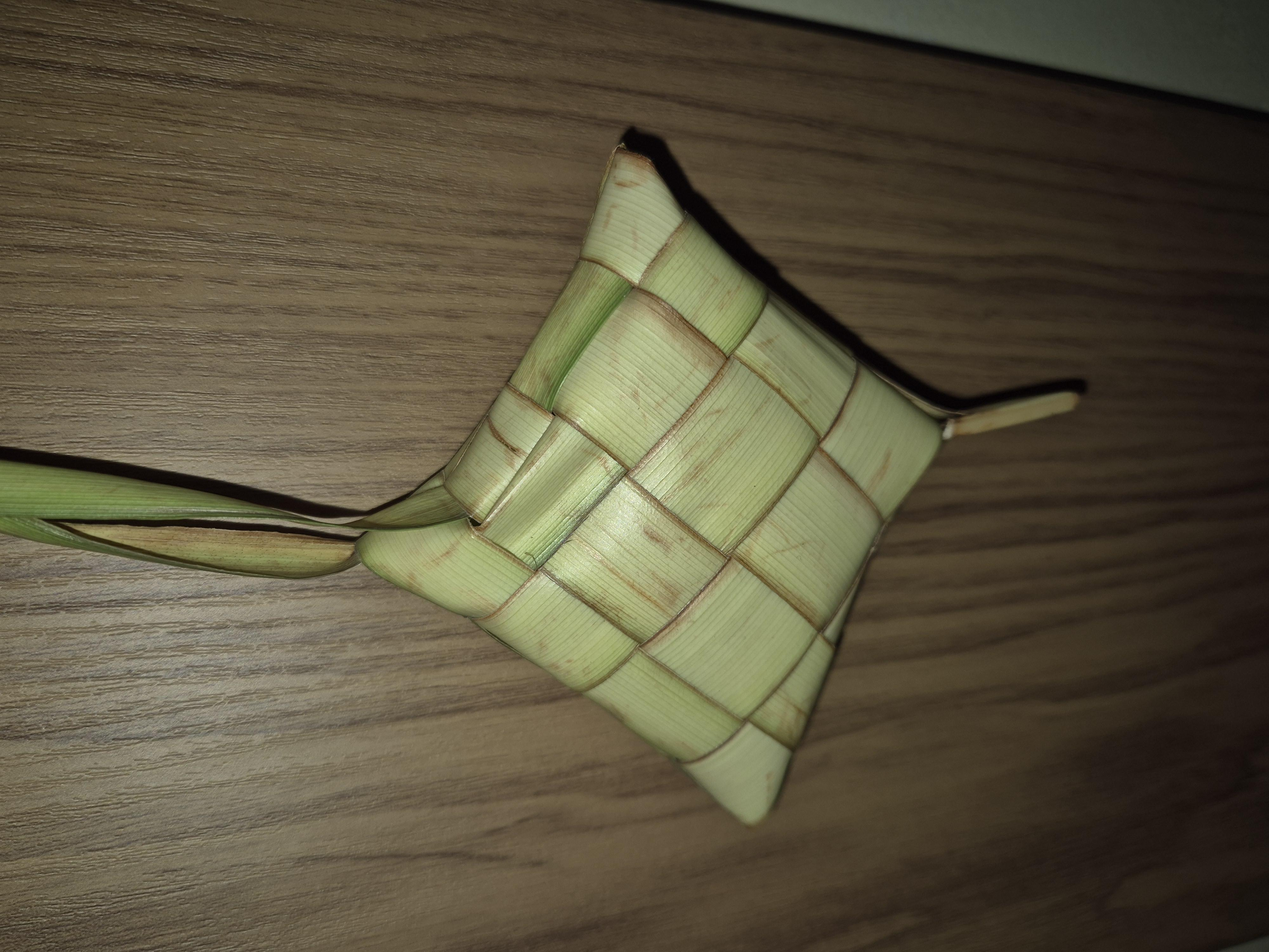Tipat Nasi: (172, 266, 1068, 706)
